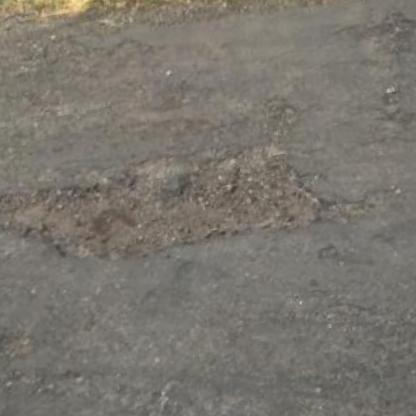pothole: (0, 123, 336, 299), (336, 7, 416, 47)
